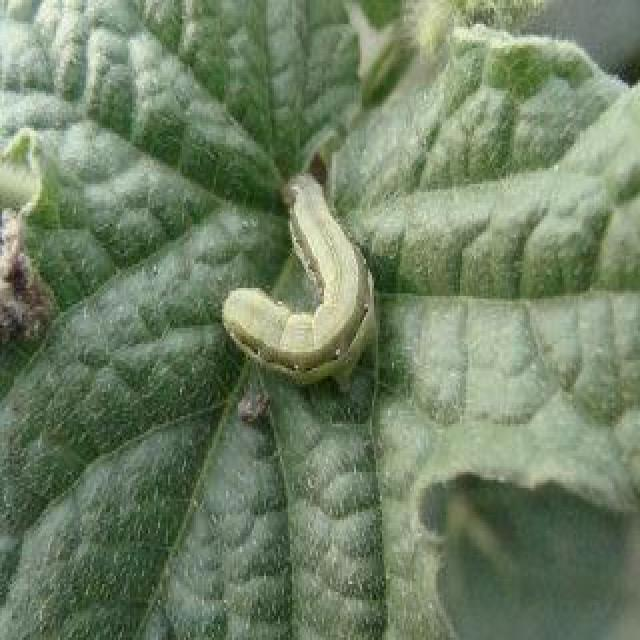BeetArmyWorm-Larva-: (220, 172, 382, 382)
